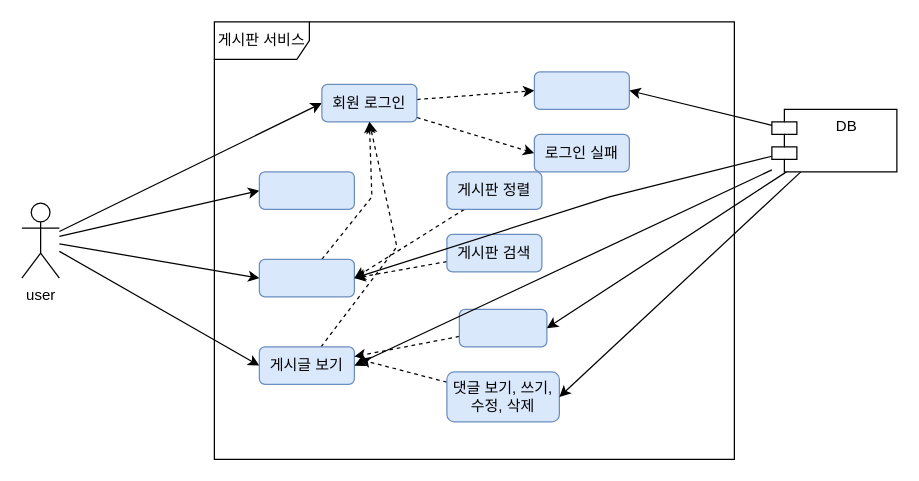
The diagram is 919 pixels wide and 481 high, and some of its shapes have lost their labels. The centre of each missing label's shape, as x and y in pixels:
"게시글 쓰기, 수정, 삭제" belongs at pixel 502 327.
"게시판 보기" belongs at pixel 306 277.
"인증" belongs at pixel 581 90.
"회원 가입" belongs at pixel 306 190.
